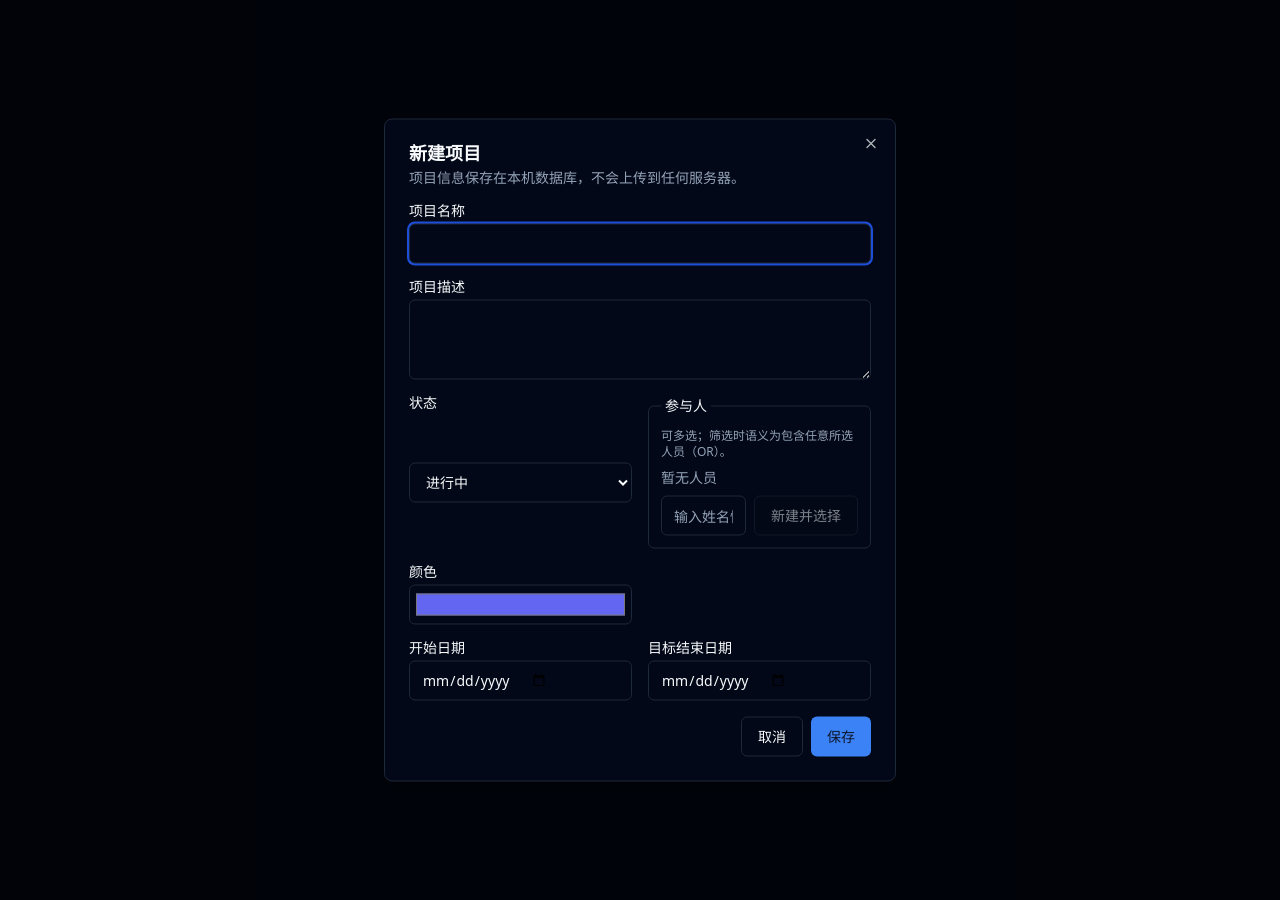
Test: ProjectForm › rejects an empty name with the Chinese schema message
Click the button "保存" at {"x": 841, "y": 736}, box [811,716,871,756]
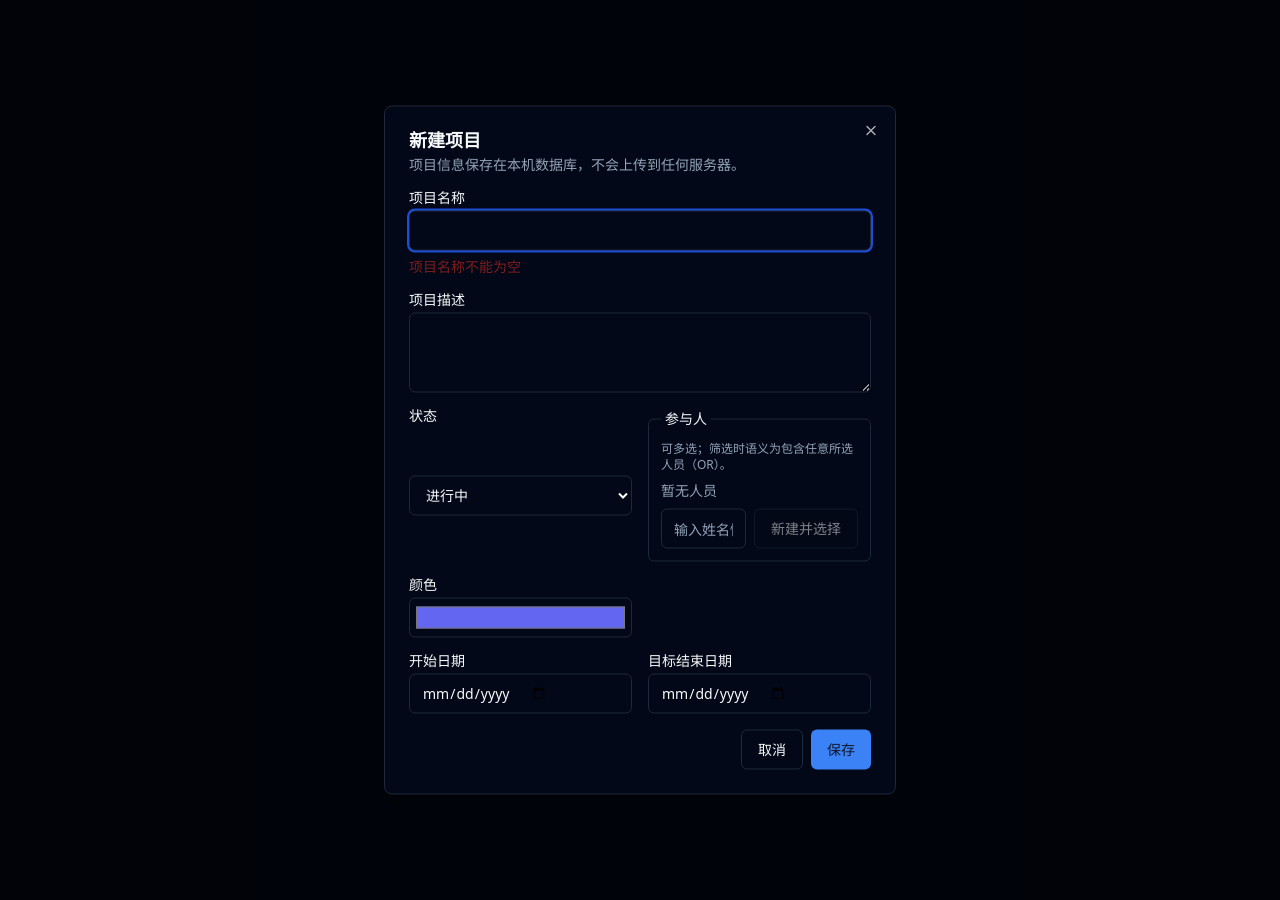
Result: the text "项目名称不能为空" is shown at [409,256,521,276]
